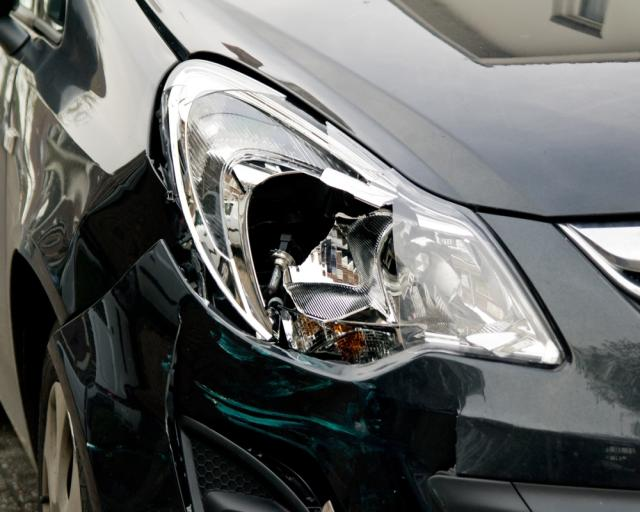dent: (75, 157, 163, 314)
lamp broken: (164, 57, 570, 371)
scratch: (194, 321, 393, 469)
